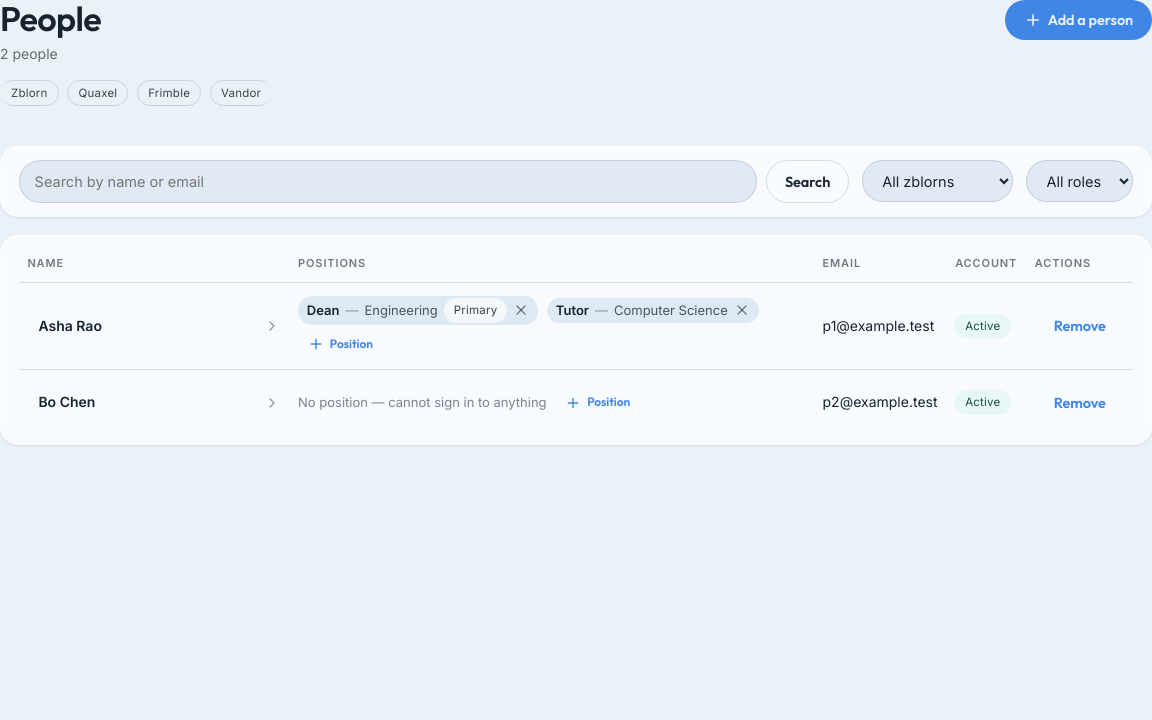
Scenario: adding a person › creates, then opens the position editor for the person just added
This screenshot has width=1152, height=720.
Step 1. Click the button "Add a person" → click(1078, 20), box [1005,0,1151,40]
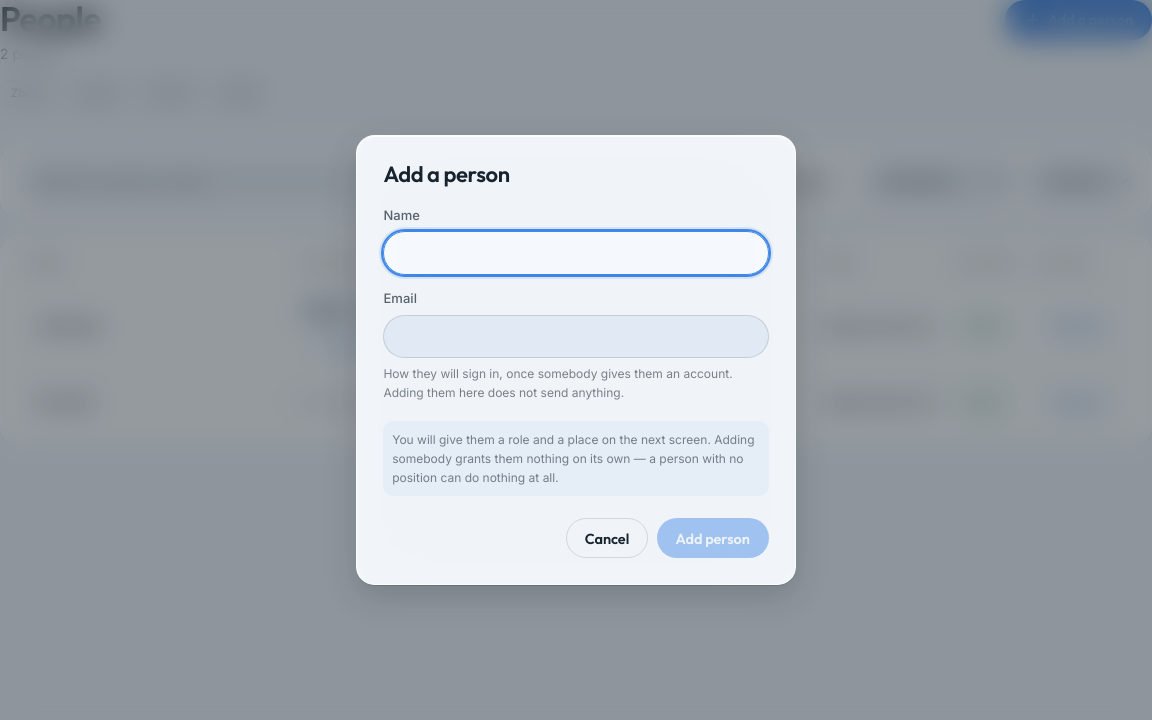
Step 2. Type "Kofi Mensah" into the field labelled "Name" → (576, 253), box [383,231,769,275]
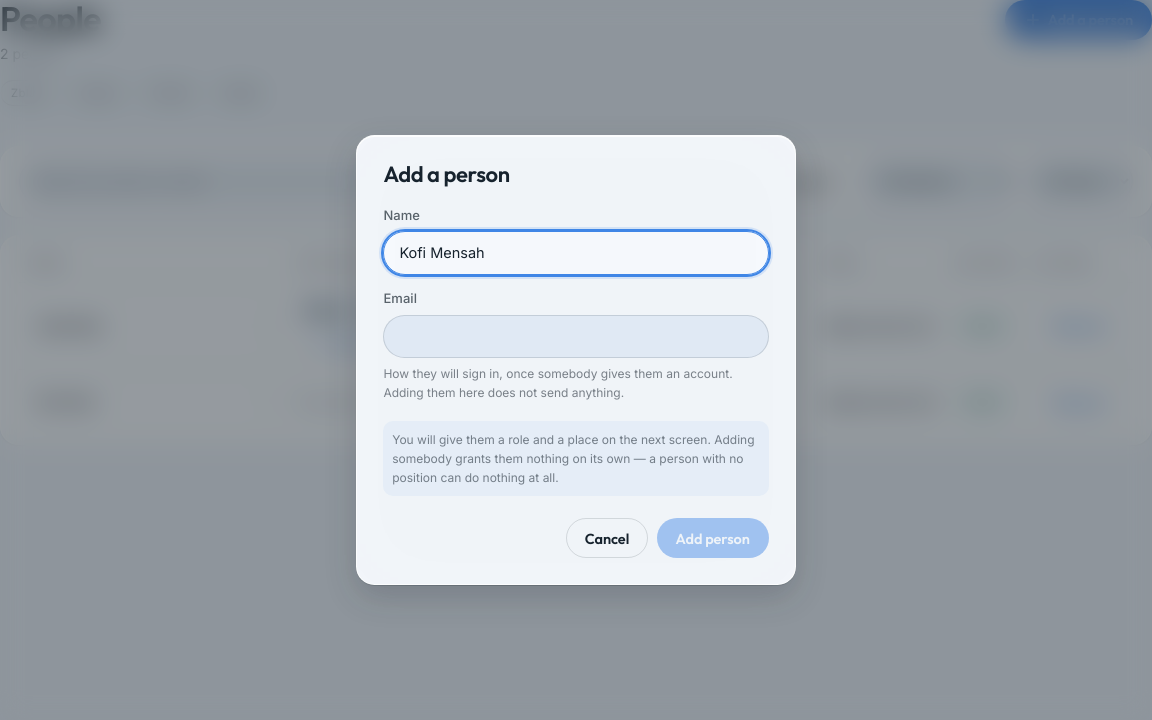
Step 3. Type "kofi@example.test" into the field labelled "Email" → (576, 336), box [383,315,769,358]
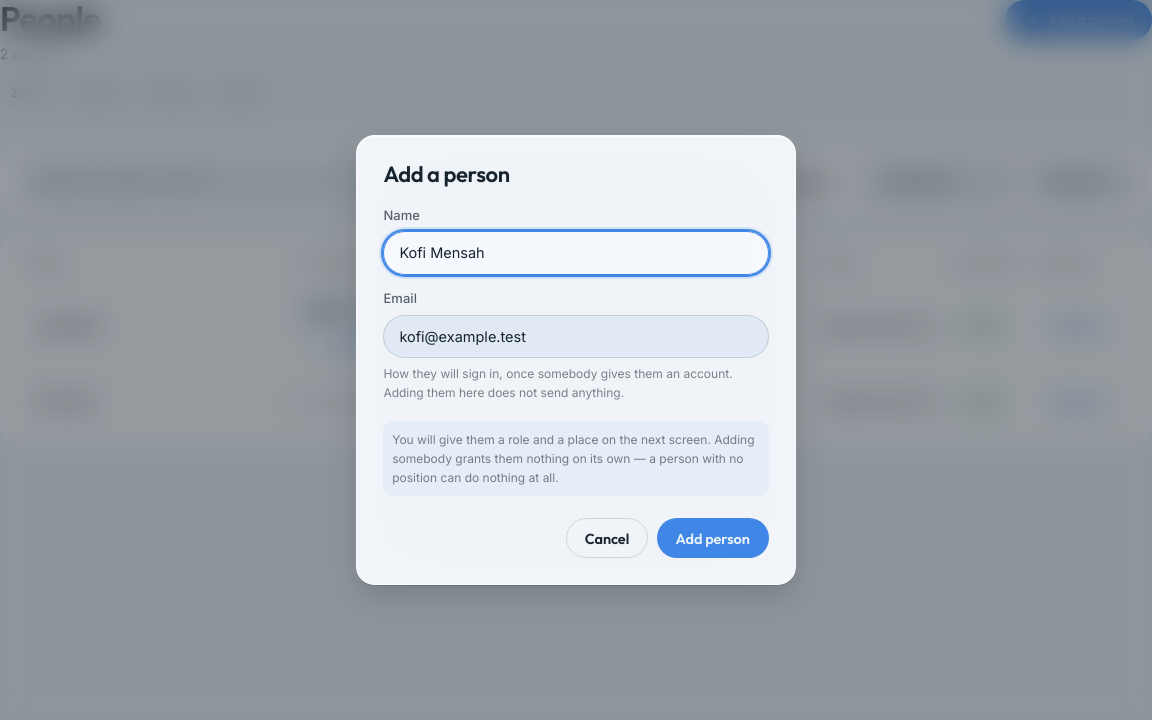
Step 4. Click the button "Add person" → click(713, 538), box [657,518,769,558]
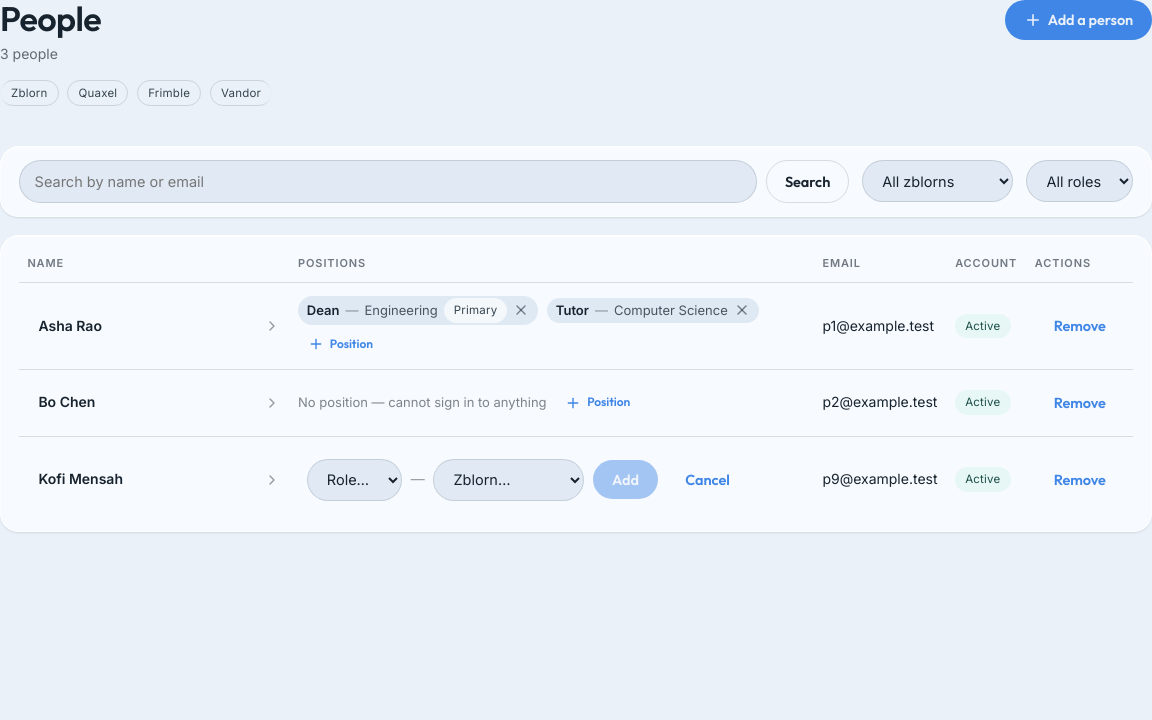
Expected: the form "— Add Cancel" is shown, [298,450,805,509]
